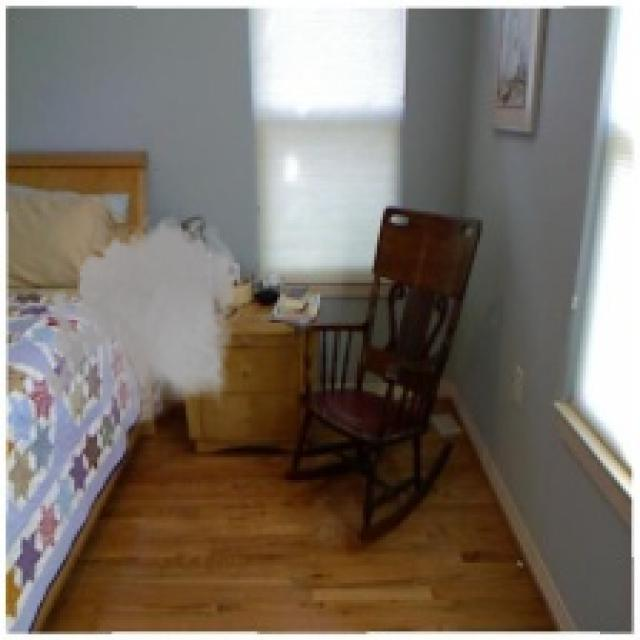Smoke: (37, 209, 246, 437)
